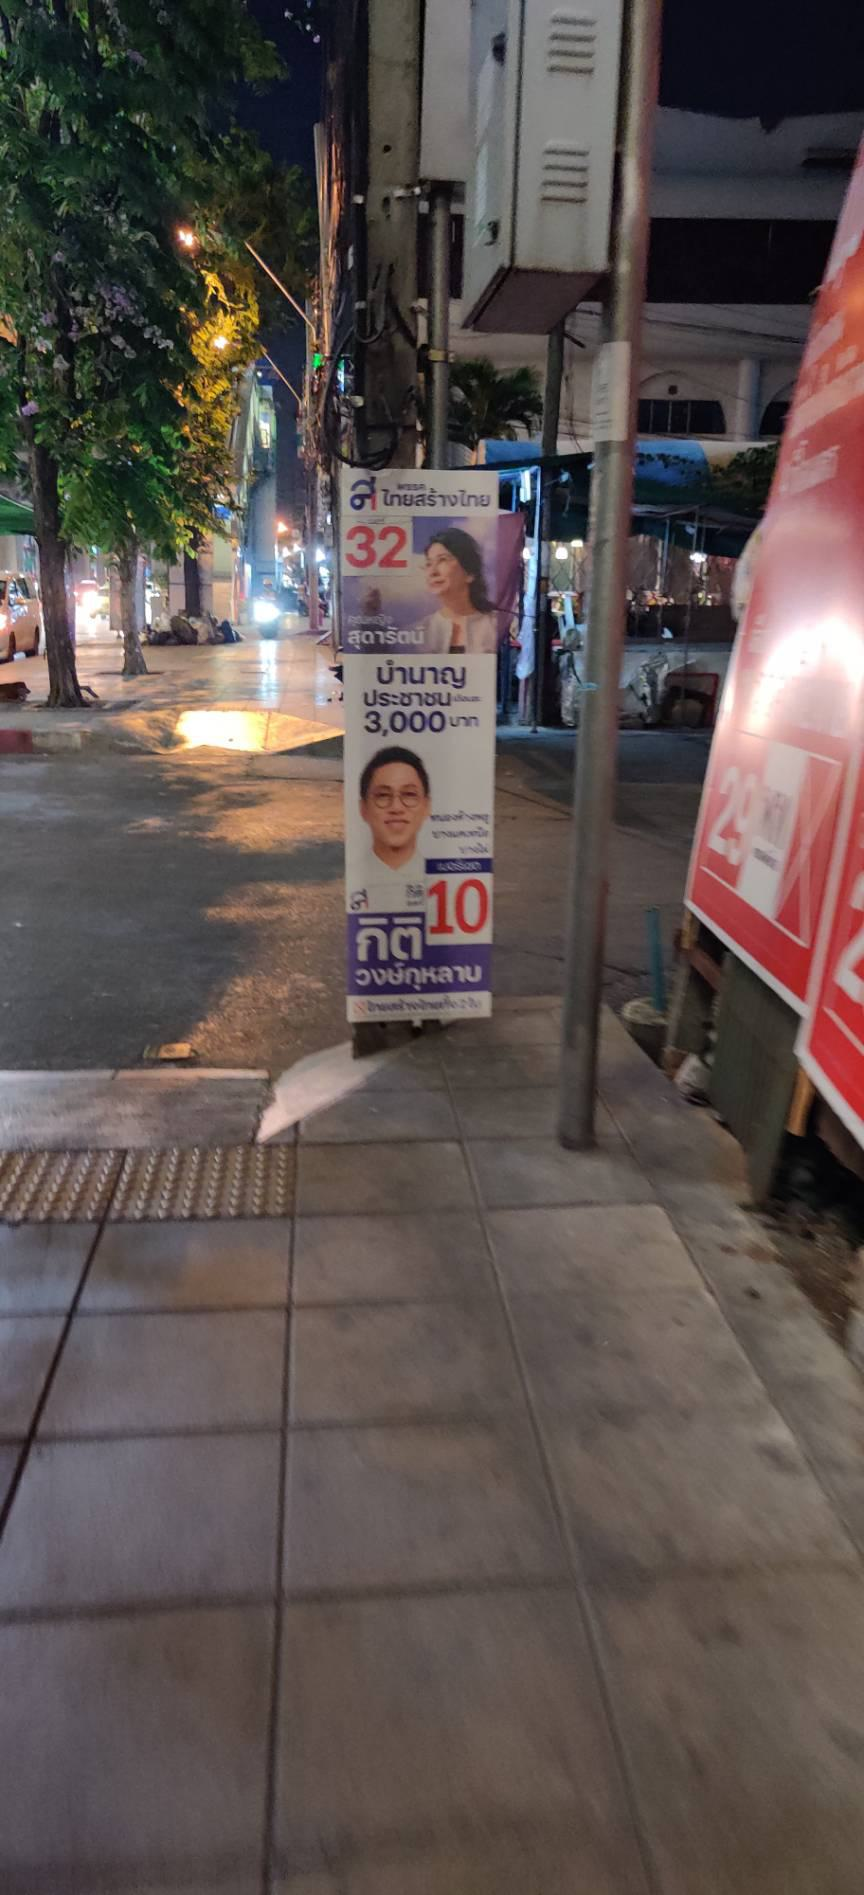Banner: (321, 446, 521, 1057)
